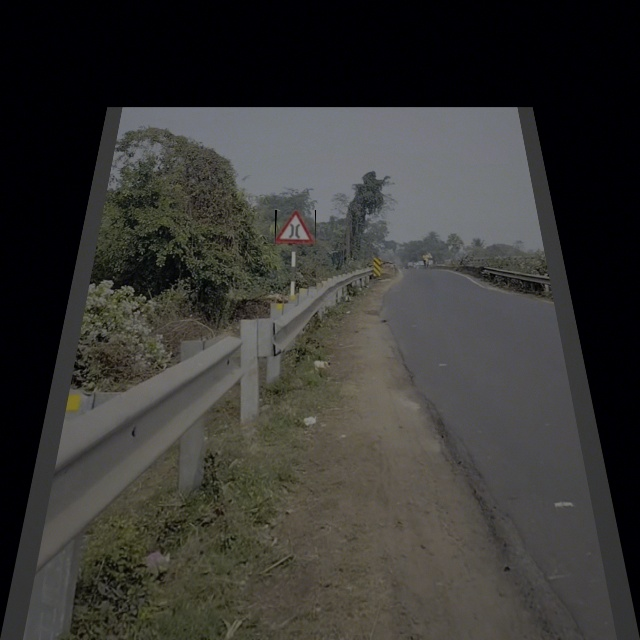Narrow_Bridge: (275, 210, 316, 246)
